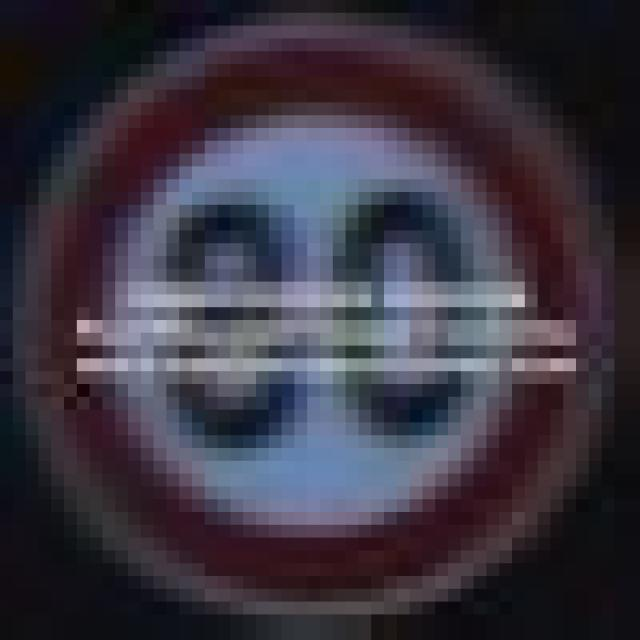speed_limit_50: (26, 12, 602, 602)
